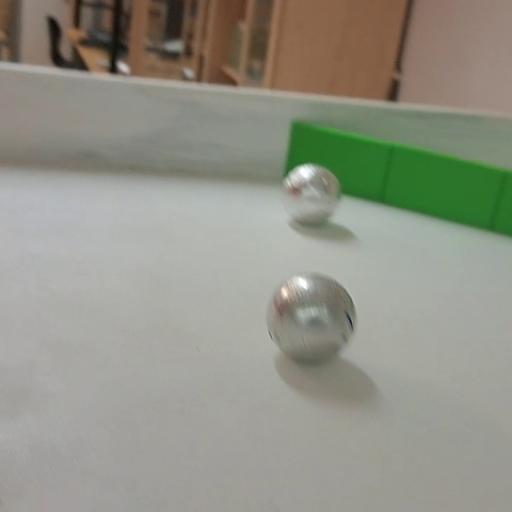alive: (265, 272, 356, 364), (282, 164, 342, 226)
